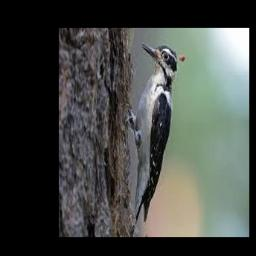Woodpecker: (126, 43, 185, 231)
